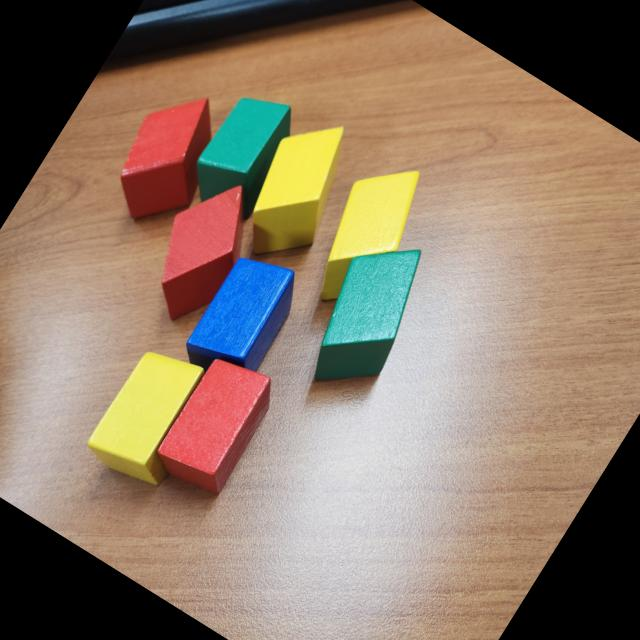blue: (176, 242, 311, 396)
green: (287, 220, 448, 408), (178, 79, 310, 229)
red: (126, 163, 274, 336), (95, 76, 242, 242), (148, 348, 284, 502)
yellow: (222, 101, 374, 276), (290, 145, 438, 321), (80, 334, 226, 497)
